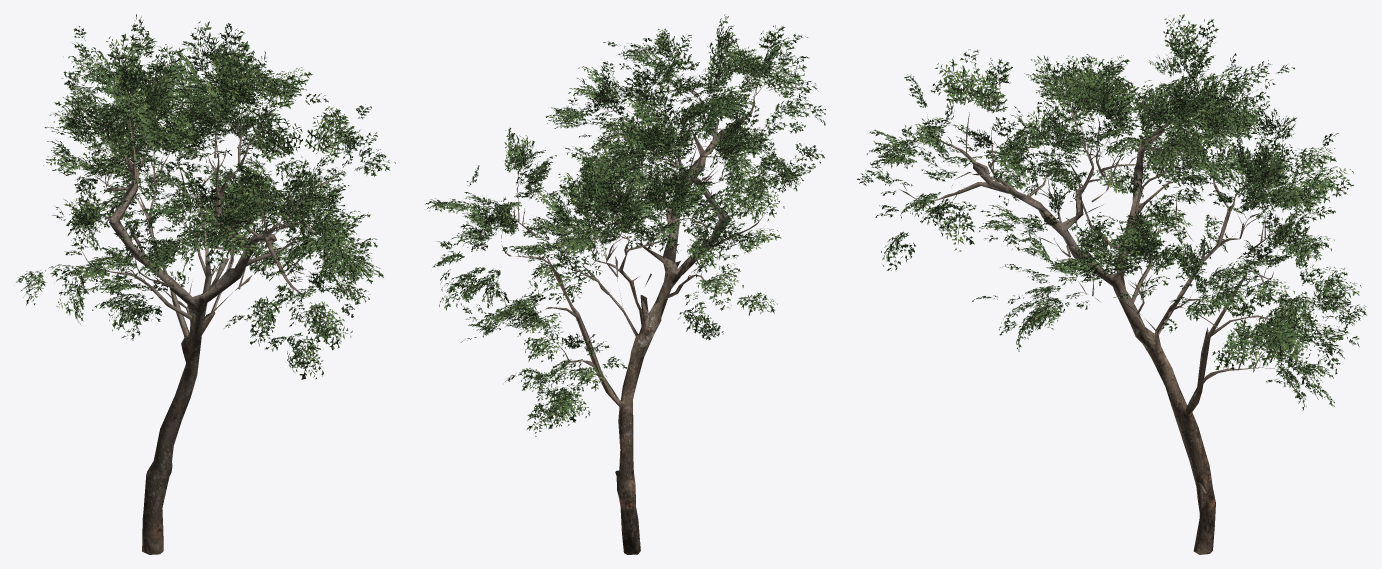
The model's file is tree-small.glb.
3 renders of one model, left to right at view 1: azimuth 30°, elevation 25°; view 2: azimuth 150°, elevation 25°; view 3: azimuth 270°, elevation 25°, orthographic. The views are drawn at different scales.
Parts seen in each view (by area): view 1: tree_small_02_LOD0; view 2: tree_small_02_LOD0; view 3: tree_small_02_LOD0.
Boxes of the visible parts, bbox=[...] form: tree_small_02_LOD0: bbox=[16, 14, 395, 554]; tree_small_02_LOD0: bbox=[425, 14, 825, 554]; tree_small_02_LOD0: bbox=[857, 14, 1367, 554].
Size of the model in its own units: 2.91 by 4.55 by 4.24.
Materials: 3 (3 with a texture image).
